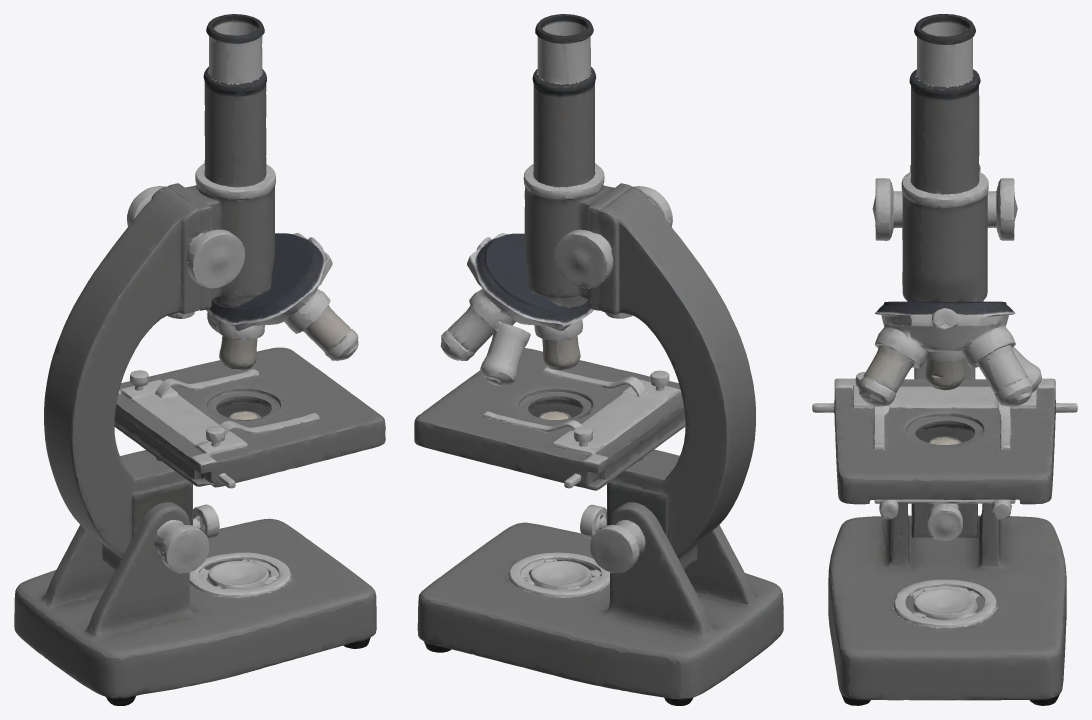
The model's file is compound-microscope-trellis.glb.
3 renders of one model, left to right at view 1: azimuth 30°, elevation 25°; view 2: azimuth 150°, elevation 25°; view 3: azimuth 270°, elevation 25°, orthographic. The views are drawn at different scales.
Visible parts, largest first — view 1: arm, base, stage, body_tube, eyepiece, objective_turret, left_focus_knob; view 2: arm, base, stage, body_tube, eyepiece, objective_turret, right_focus_knob; view 3: base, stage, body_tube, arm, eyepiece, objective_turret.
Boxes of the visible parts, x1,y1,x2,y2 form: arm: [42, 184, 332, 636]; base: [14, 518, 376, 705]; stage: [44, 347, 385, 512]; body_tube: [174, 131, 321, 323]; eyepiece: [203, 14, 266, 144]; objective_turret: [206, 308, 358, 370]; left_focus_knob: [160, 525, 209, 573]; arm: [467, 184, 757, 636]; base: [417, 522, 783, 705]; stage: [414, 348, 755, 511]; body_tube: [478, 133, 625, 323]; eyepiece: [532, 14, 596, 145]; objective_turret: [440, 308, 593, 385]; right_focus_knob: [590, 524, 639, 573]; base: [828, 515, 1066, 705]; stage: [813, 357, 1076, 519]; body_tube: [874, 138, 1015, 345]; arm: [812, 164, 1077, 545]; eyepiece: [909, 14, 980, 150]; objective_turret: [858, 345, 1041, 406].
Bounding box in the file's own units: 0.147 × 0.3 × 0.1134.
1 material, 1 textured.
